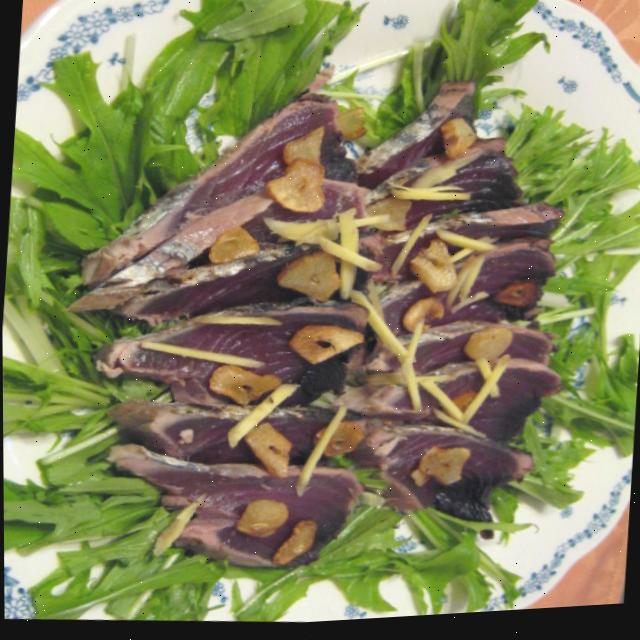熟制海鲜: (0, 31, 618, 640)
